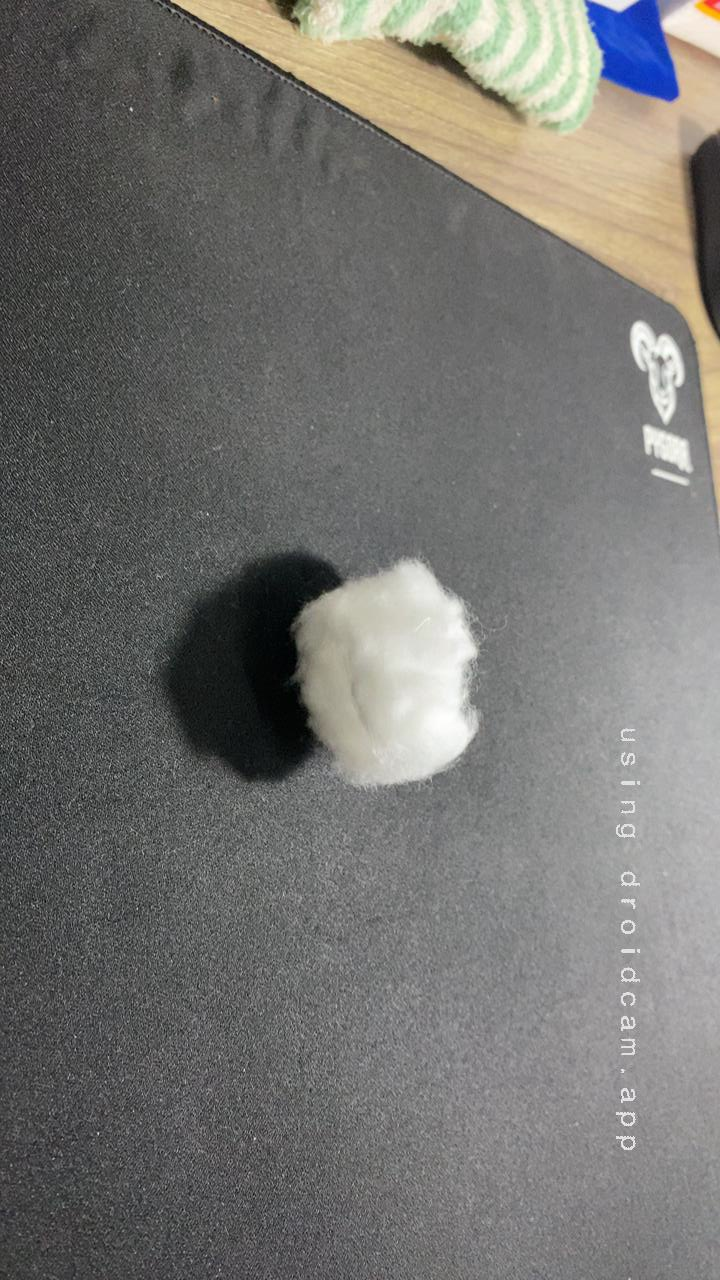cotton: (261, 529, 506, 799)
